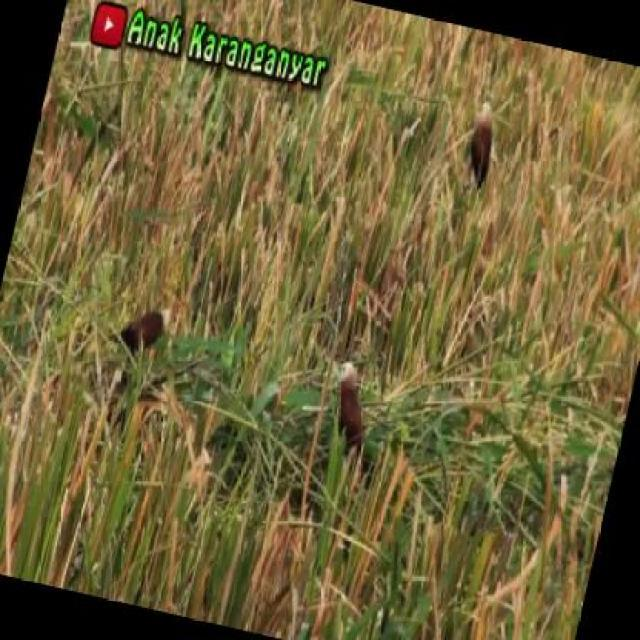Bird: (308, 345, 439, 490), (84, 289, 204, 403), (449, 93, 524, 195)
